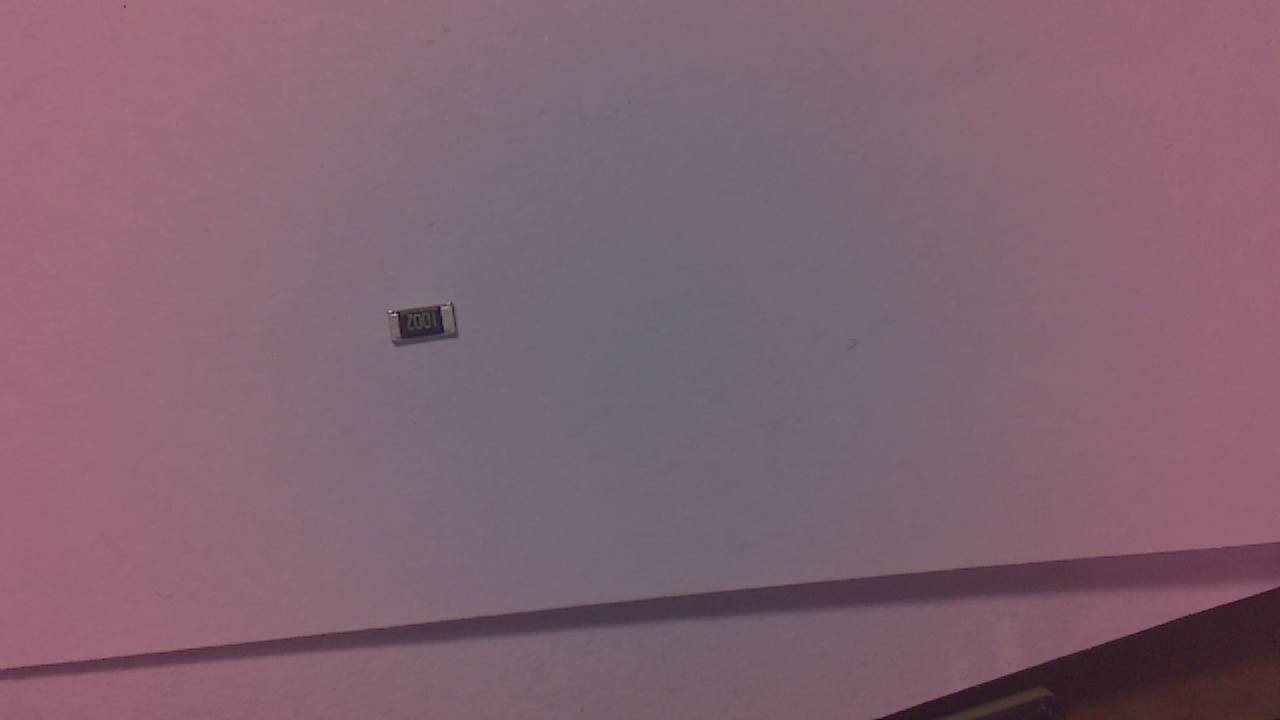Resistor: (389, 306, 466, 350)
